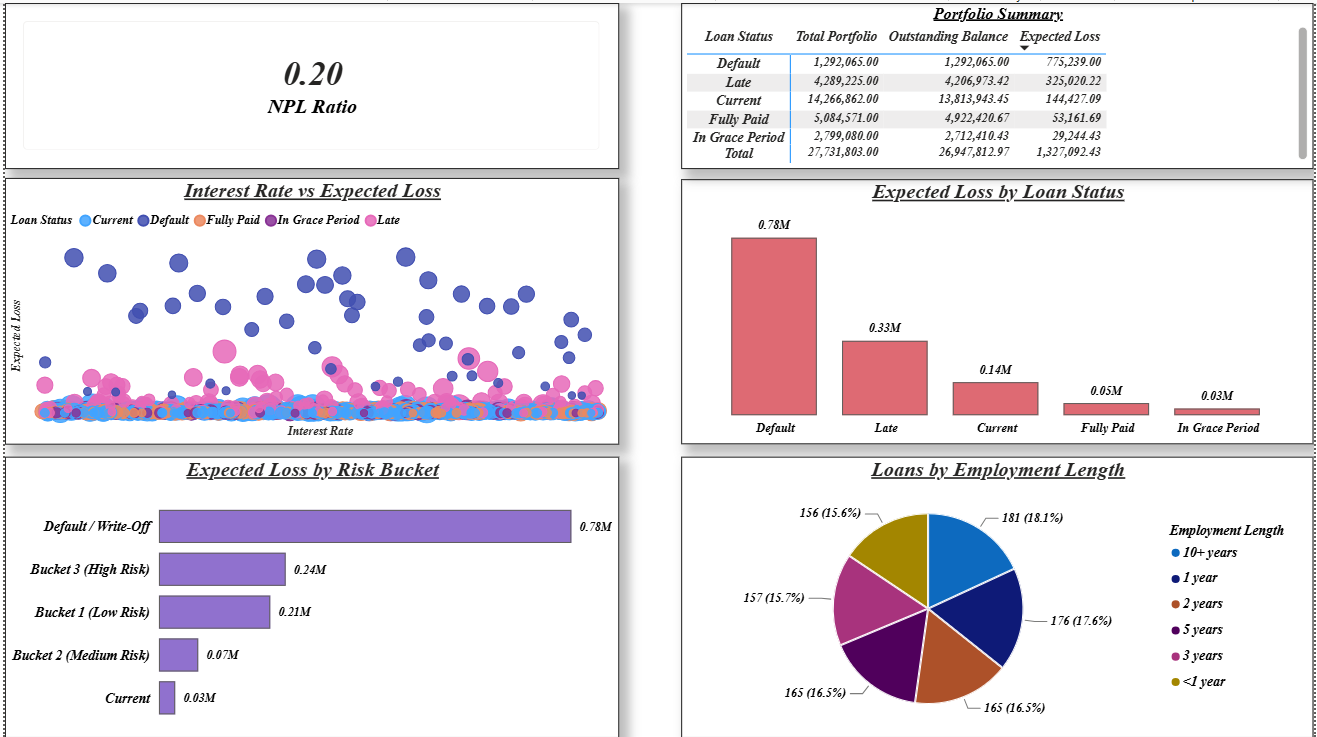

This screenshot's page, from the dashboard's own definition file:
{"tool":"powerbi","page":{"name":"Risk Adjusted Portfolio Analysis","canvas":[1280,720],"ordinal":1},"visuals":[{"type":"cardVisual","fields":{"Data":["final_credit_portfolio.NPL Ratio %"]},"box":[0,0,600.4,162.6],"z":0},{"type":"scatterChart","title":"Interest Rate vs Expected Loss","fields":{"X":["final_credit_portfolio.interest_rate"],"Y":["Sum(final_credit_portfolio.Expected_Loss)"],"Size":["Sum(final_credit_portfolio.loan_amount)"],"Series":["final_credit_portfolio.loan_status"]},"box":[0,171.2,600.4,260.5],"z":1000},{"type":"columnChart","title":"Expected Loss by Loan Status","fields":{"Category":["final_credit_portfolio.loan_status"],"Y":["Sum(final_credit_portfolio.Expected_Loss)"]},"box":[661.6,172.4,618.8,259.2],"z":2000},{"type":"barChart","title":"Expected Loss by Risk Bucket","fields":{"Category":["final_credit_portfolio.DelinquencyTier"],"Y":["Sum(final_credit_portfolio.Expected_Loss)"]},"box":[0,443.9,600.4,276.4],"z":2001},{"type":"pieChart","title":"Loans by Employment Length","fields":{"Category":["final_credit_portfolio.employment_length"],"Y":["CountNonNull(final_credit_portfolio.loan_id)"]},"box":[661.6,443.9,618.8,276.4],"z":2002},{"type":"pivotTable","title":"Portfolio Summary","fields":{"Rows":["final_credit_portfolio.loan_status"],"Values":["final_credit_portfolio.Total Portfolio","Sum(final_credit_portfolio.OutstandingBalance)","Sum(final_credit_portfolio.Expected_Loss)"]},"box":[661.6,0,618.8,162.6],"z":2003}]}

Visuals, with their boxes in screenshot pixels (x1, y1, x2, y2), scaled from the page's 1280x720 canvas onto the 1317x737 screenshot:
cardVisual - final_credit_portfolio.NPL Ratio %: rect(0, 0, 618, 166)
"Interest Rate vs Expected Loss" scatterChart: rect(0, 175, 618, 442)
"Expected Loss by Loan Status" columnChart: rect(681, 176, 1316, 442)
"Expected Loss by Risk Bucket" barChart: rect(0, 454, 618, 736)
"Loans by Employment Length" pieChart: rect(681, 454, 1316, 736)
"Portfolio Summary" pivotTable: rect(681, 0, 1316, 166)
